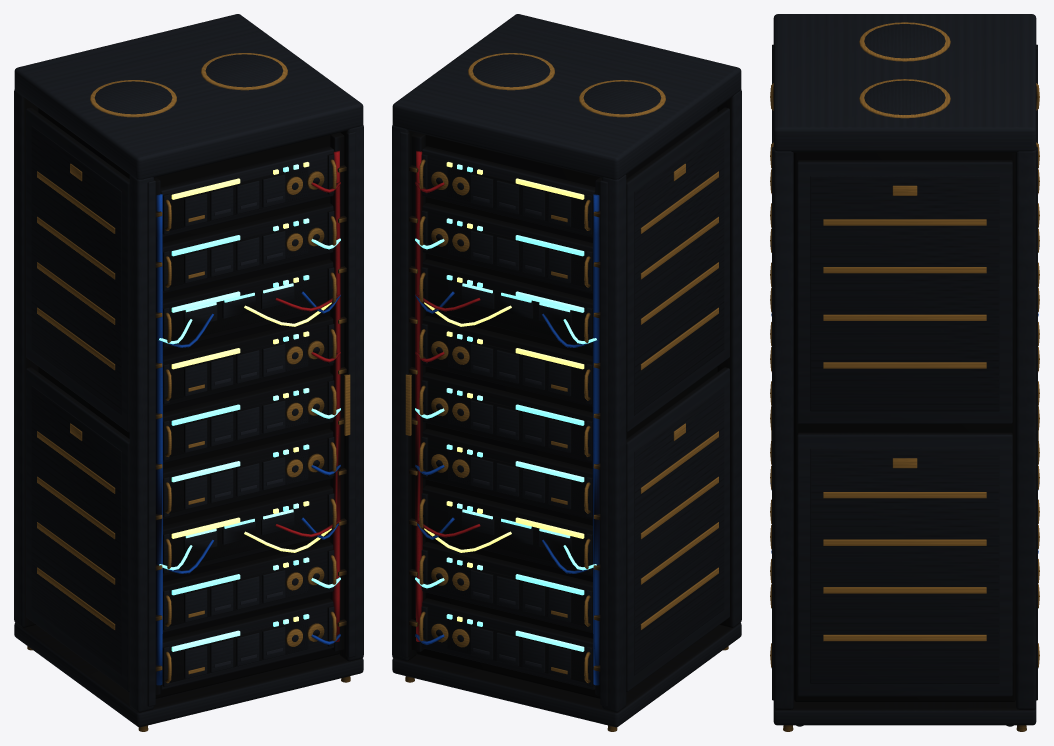
Rendered from prop_server_rack.glb.
3 views of the same model, side by side, from view 1: azimuth 30°, elevation 25°; view 2: azimuth 150°, elevation 25°; view 3: azimuth 270°, elevation 25° (orthographic). The views are drawn at different scales.
Visible parts, largest first — view 1: prop_server_rack; view 2: prop_server_rack; view 3: prop_server_rack.
Part boxes in pixels (x1,y1,x2,y2): prop_server_rack: (14, 14, 363, 731); prop_server_rack: (392, 14, 741, 731); prop_server_rack: (770, 14, 1039, 731).
Bounding box in the file's own units: 0.94 × 2.3 × 0.924.
9 materials, 6 textured.
